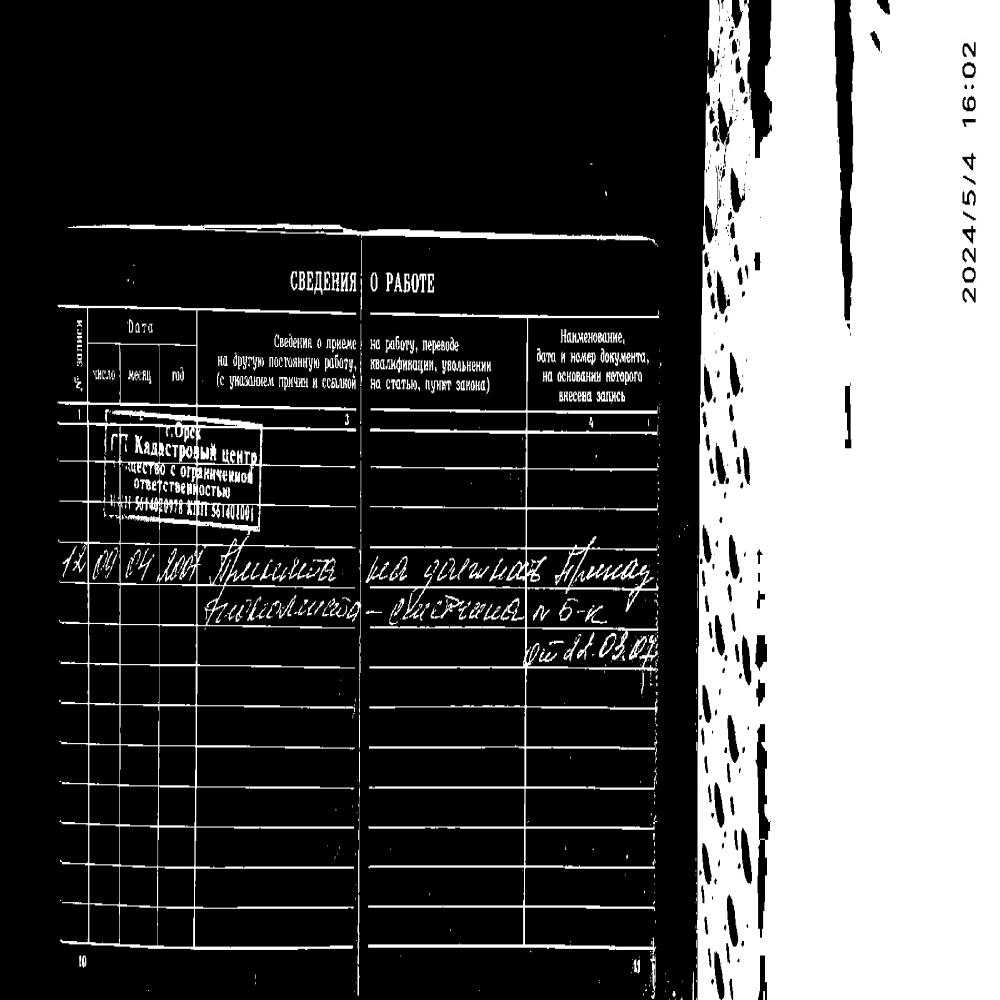rus: (285, 258, 438, 308), (201, 594, 363, 636), (209, 545, 341, 589), (60, 544, 203, 582), (552, 544, 658, 589), (528, 632, 658, 668), (369, 592, 521, 622), (419, 553, 543, 585), (530, 593, 618, 630), (367, 553, 413, 588), (558, 324, 624, 347), (370, 355, 436, 374), (272, 327, 314, 351), (73, 317, 86, 394), (230, 372, 276, 390), (600, 348, 646, 365), (269, 356, 321, 371), (422, 335, 461, 354), (126, 316, 158, 339), (440, 358, 492, 372), (558, 387, 593, 406), (324, 352, 356, 372), (233, 351, 266, 370), (326, 336, 359, 354), (386, 335, 417, 353), (606, 370, 645, 384), (322, 374, 358, 389), (557, 370, 602, 382), (278, 375, 309, 389), (596, 388, 626, 402), (570, 350, 597, 365), (535, 346, 557, 364), (87, 367, 117, 380), (385, 379, 419, 390), (456, 379, 487, 391), (425, 380, 452, 392), (125, 372, 155, 382), (170, 368, 185, 388), (542, 368, 556, 385), (368, 337, 383, 352), (216, 352, 230, 368), (315, 329, 324, 352), (369, 378, 383, 391), (219, 374, 227, 390), (311, 376, 319, 390), (560, 349, 566, 365)
